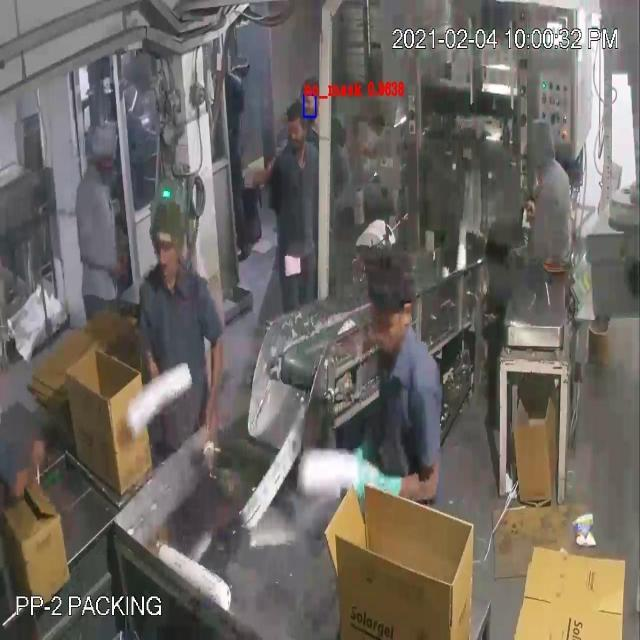No_Gloves: (26, 52, 364, 462)
